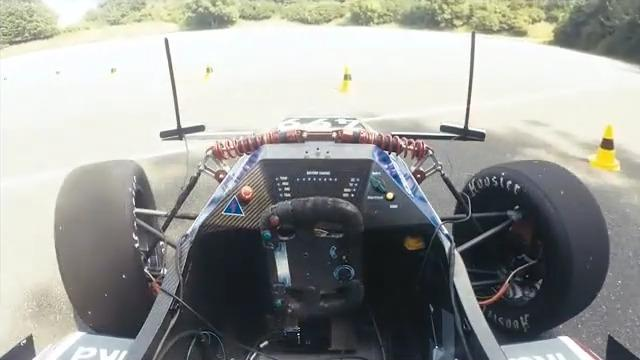yellow_cone: (586, 123, 621, 172), (335, 63, 356, 96), (202, 62, 221, 87), (108, 65, 125, 88), (51, 68, 63, 90), (2, 78, 12, 96)
